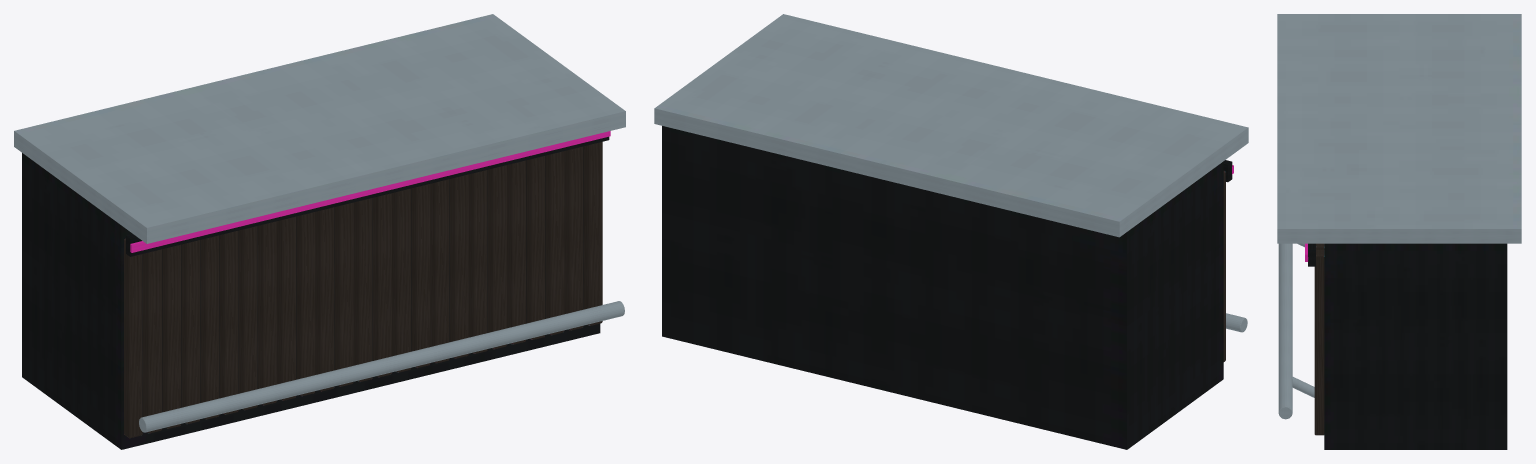
File: bar.glb
The picture shows the model from 3 angles, left to right: view 1: azimuth 30°, elevation 25°; view 2: azimuth 150°, elevation 25°; view 3: azimuth 270°, elevation 25°; orthographic projection. The views are drawn at different scales.
Parts seen in each view (by area): view 1: bar; view 2: bar; view 3: bar.
Part boxes in pixels (bbox=[...]): bar: bbox=[14, 14, 625, 449]; bar: bbox=[654, 14, 1248, 449]; bar: bbox=[1277, 14, 1521, 449].
Size of the model in its own units: 2.5 by 1.2 by 1.2.
1 material, 1 textured.
